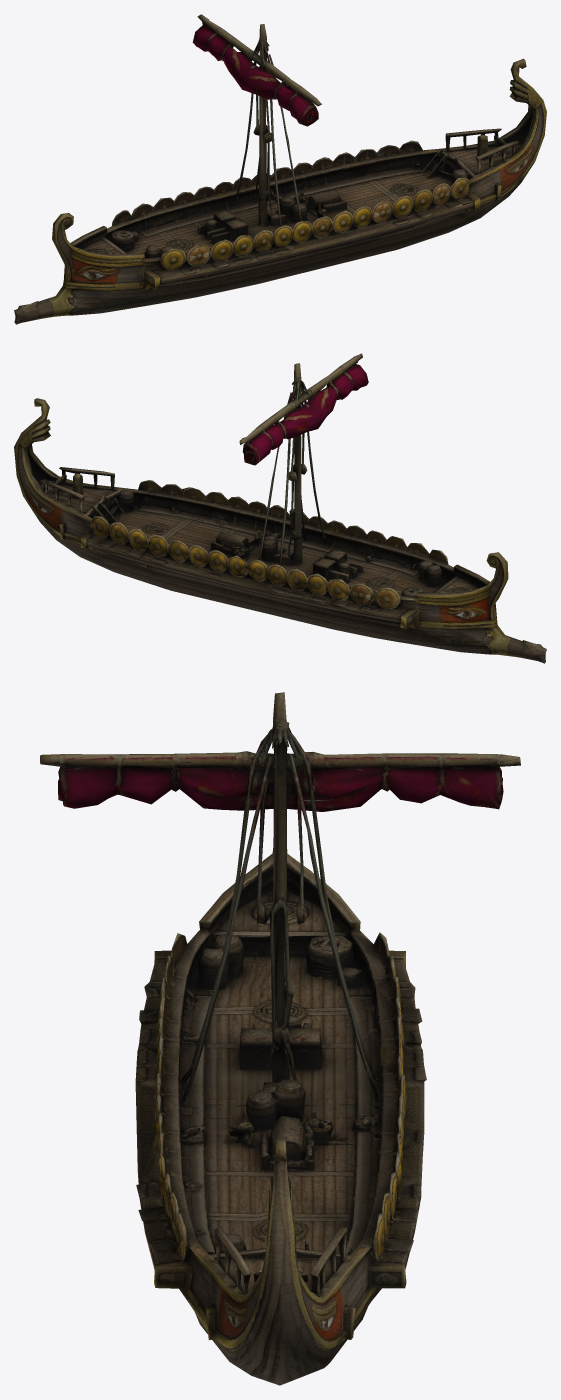
File: AncientShip.glb
The picture shows the model from 3 angles, top to bottom: view 1: azimuth 30°, elevation 25°; view 2: azimuth 150°, elevation 25°; view 3: azimuth 270°, elevation 25°; orthographic projection. The views are drawn at different scales.
Visible parts, largest first — view 1: low; view 2: low; view 3: low.
Part boxes in pixels (bbox=[...]): low: bbox=[14, 14, 546, 324]; low: bbox=[14, 353, 546, 663]; low: bbox=[40, 692, 520, 1385].
Size of the model in its own units: 7.2 by 3.25 by 2.84.
1 material, 1 textured.
